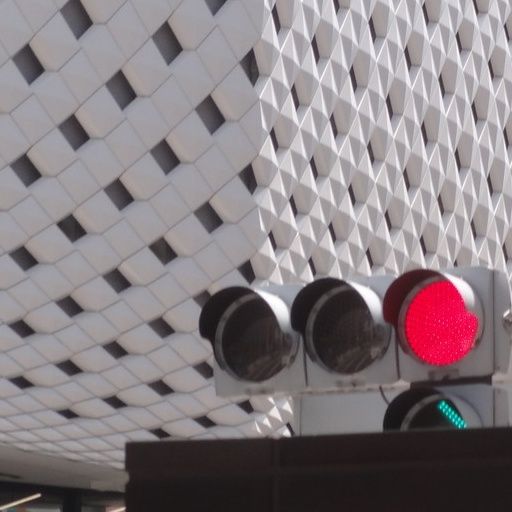Traffic_Signal_Red: (205, 265, 486, 381)
